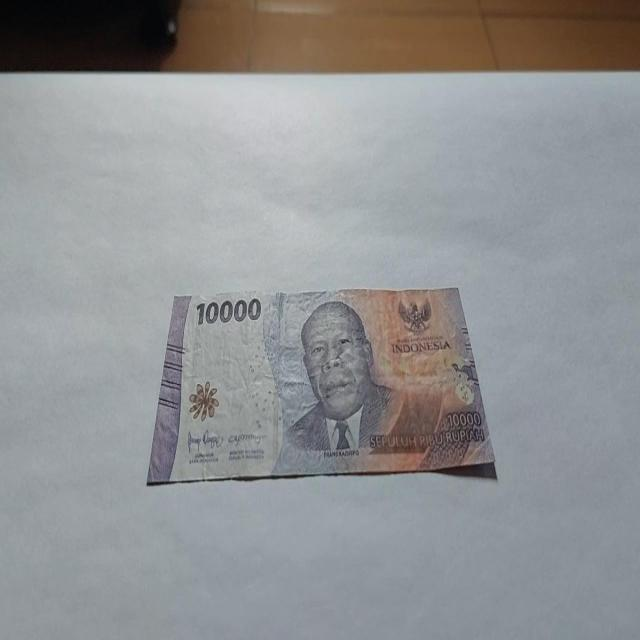Kertas: (146, 286, 498, 487), (194, 295, 262, 326)
